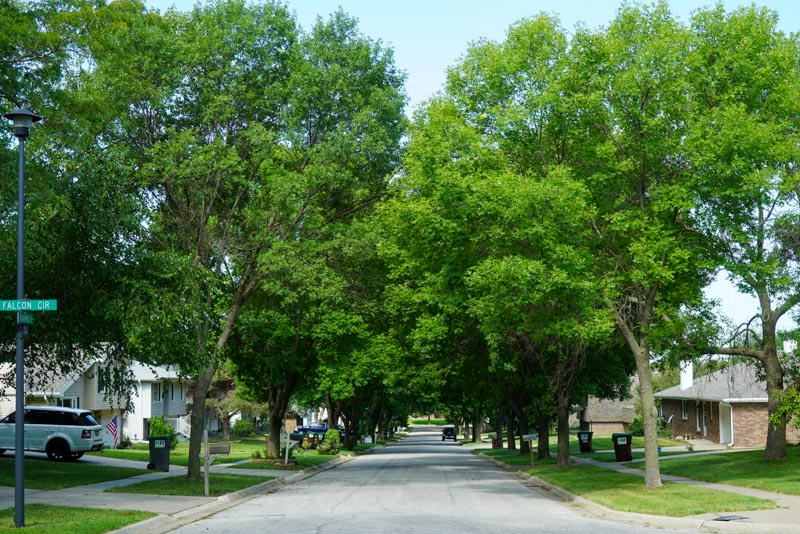Tree: (38, 1, 362, 503), (424, 6, 759, 482), (371, 78, 599, 467), (217, 98, 398, 457)
